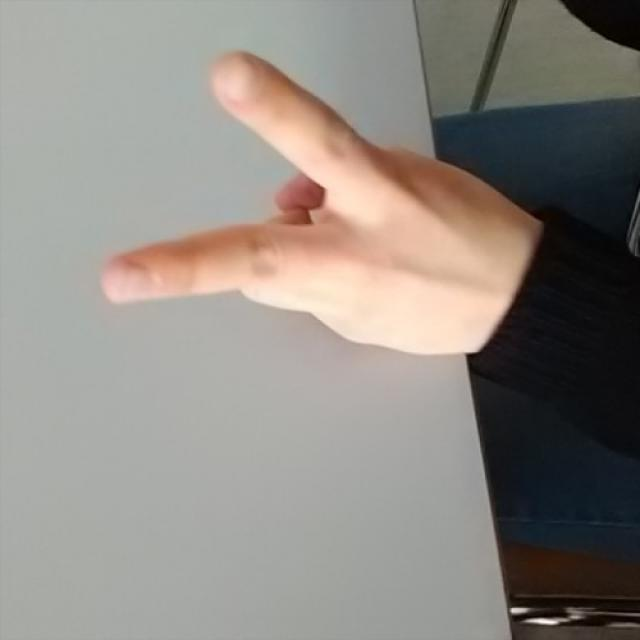scissors: (102, 47, 476, 358)
